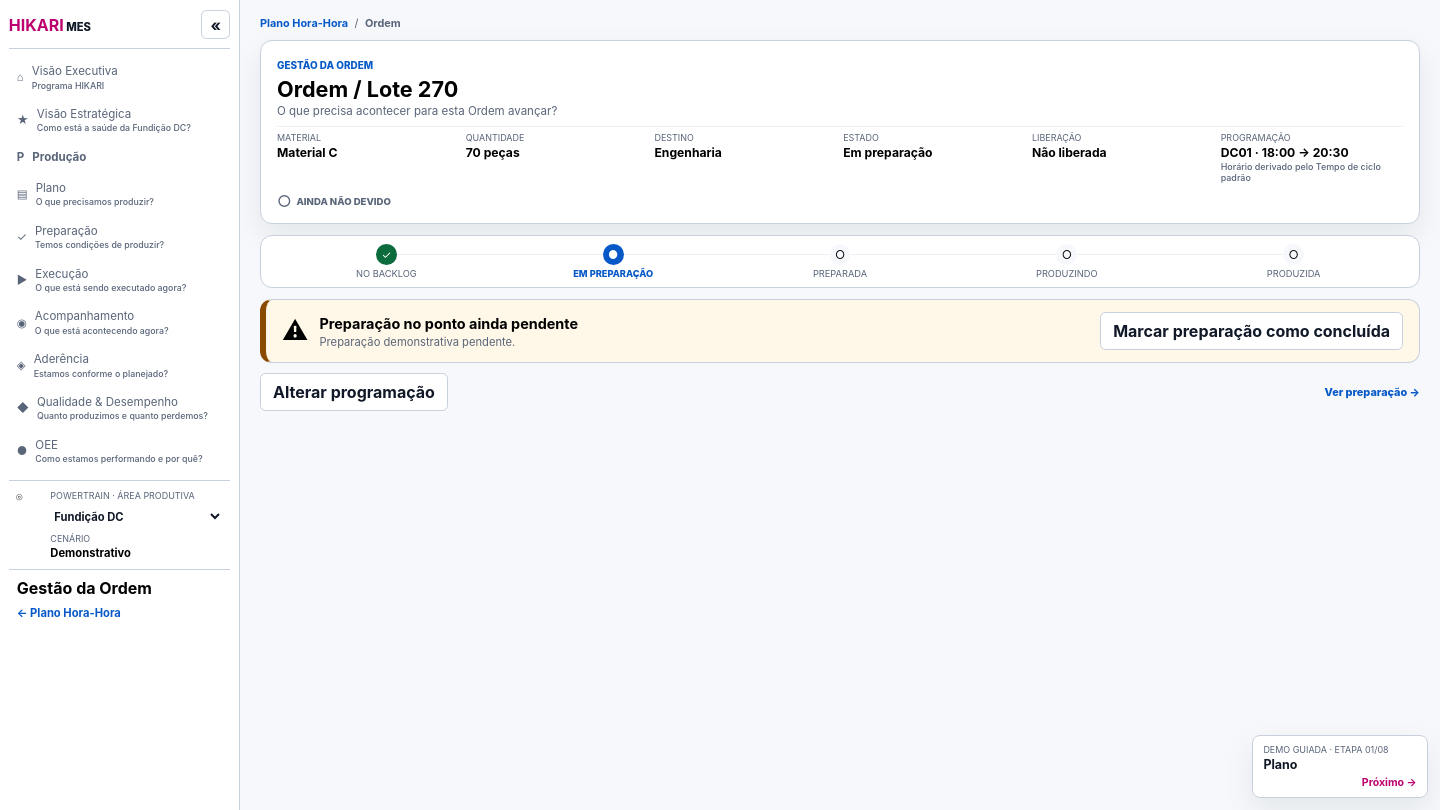
Test: Cena D: confirming preparation for Lote 270 advances it from Em preparação to Preparada
Expected: the element named "Próxima decisão" shows "Preparação no ponto ainda pendente", left=319, top=314, right=578, bottom=332
Click the button "Marcar preparação como concluída". click: (1252, 331)
box: left=1100, top=312, right=1403, bottom=350
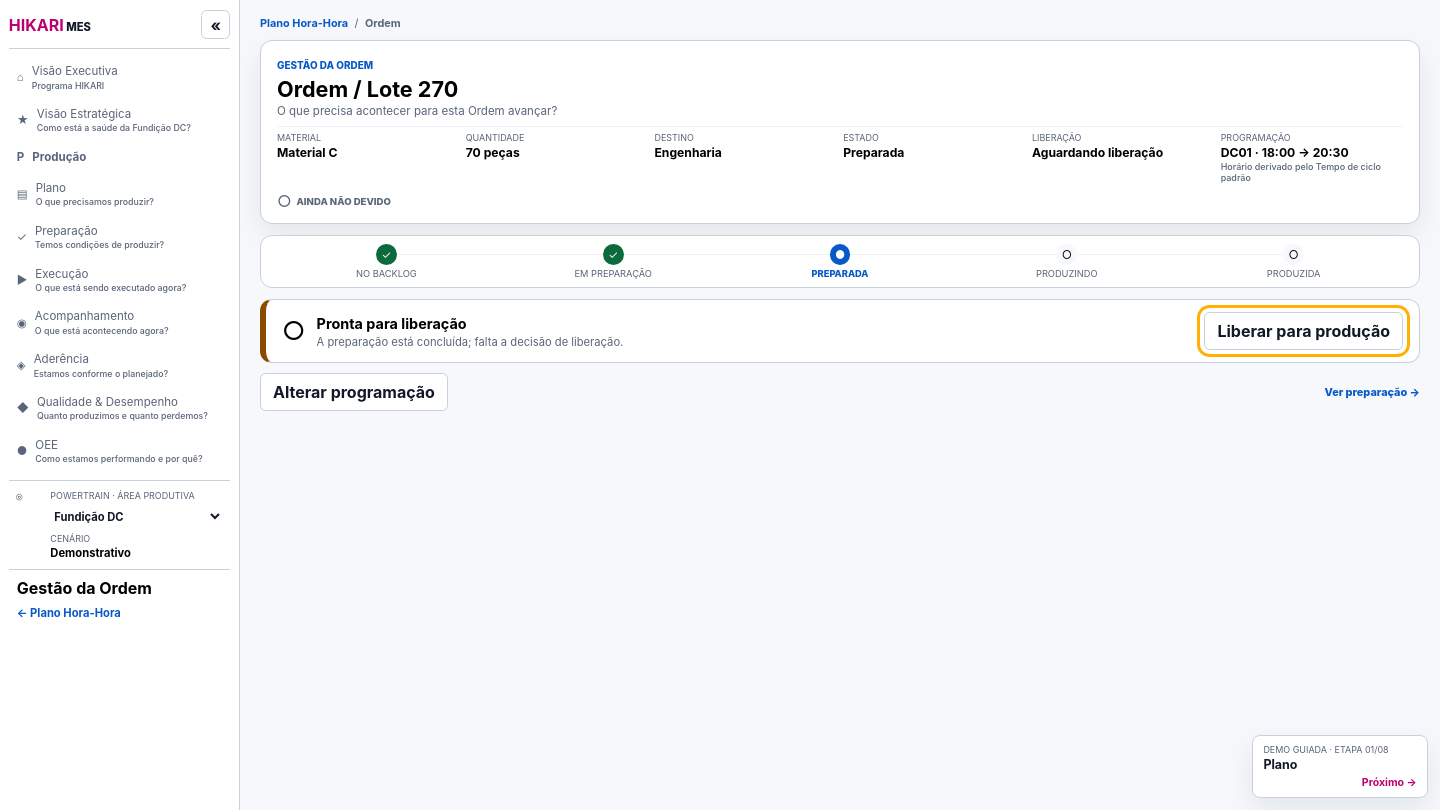
Result: the text "Material" shows "Preparada" at left=843, top=145, right=904, bottom=160
Result: the button "Liberar para produção" is shown at left=1204, top=312, right=1403, bottom=350
